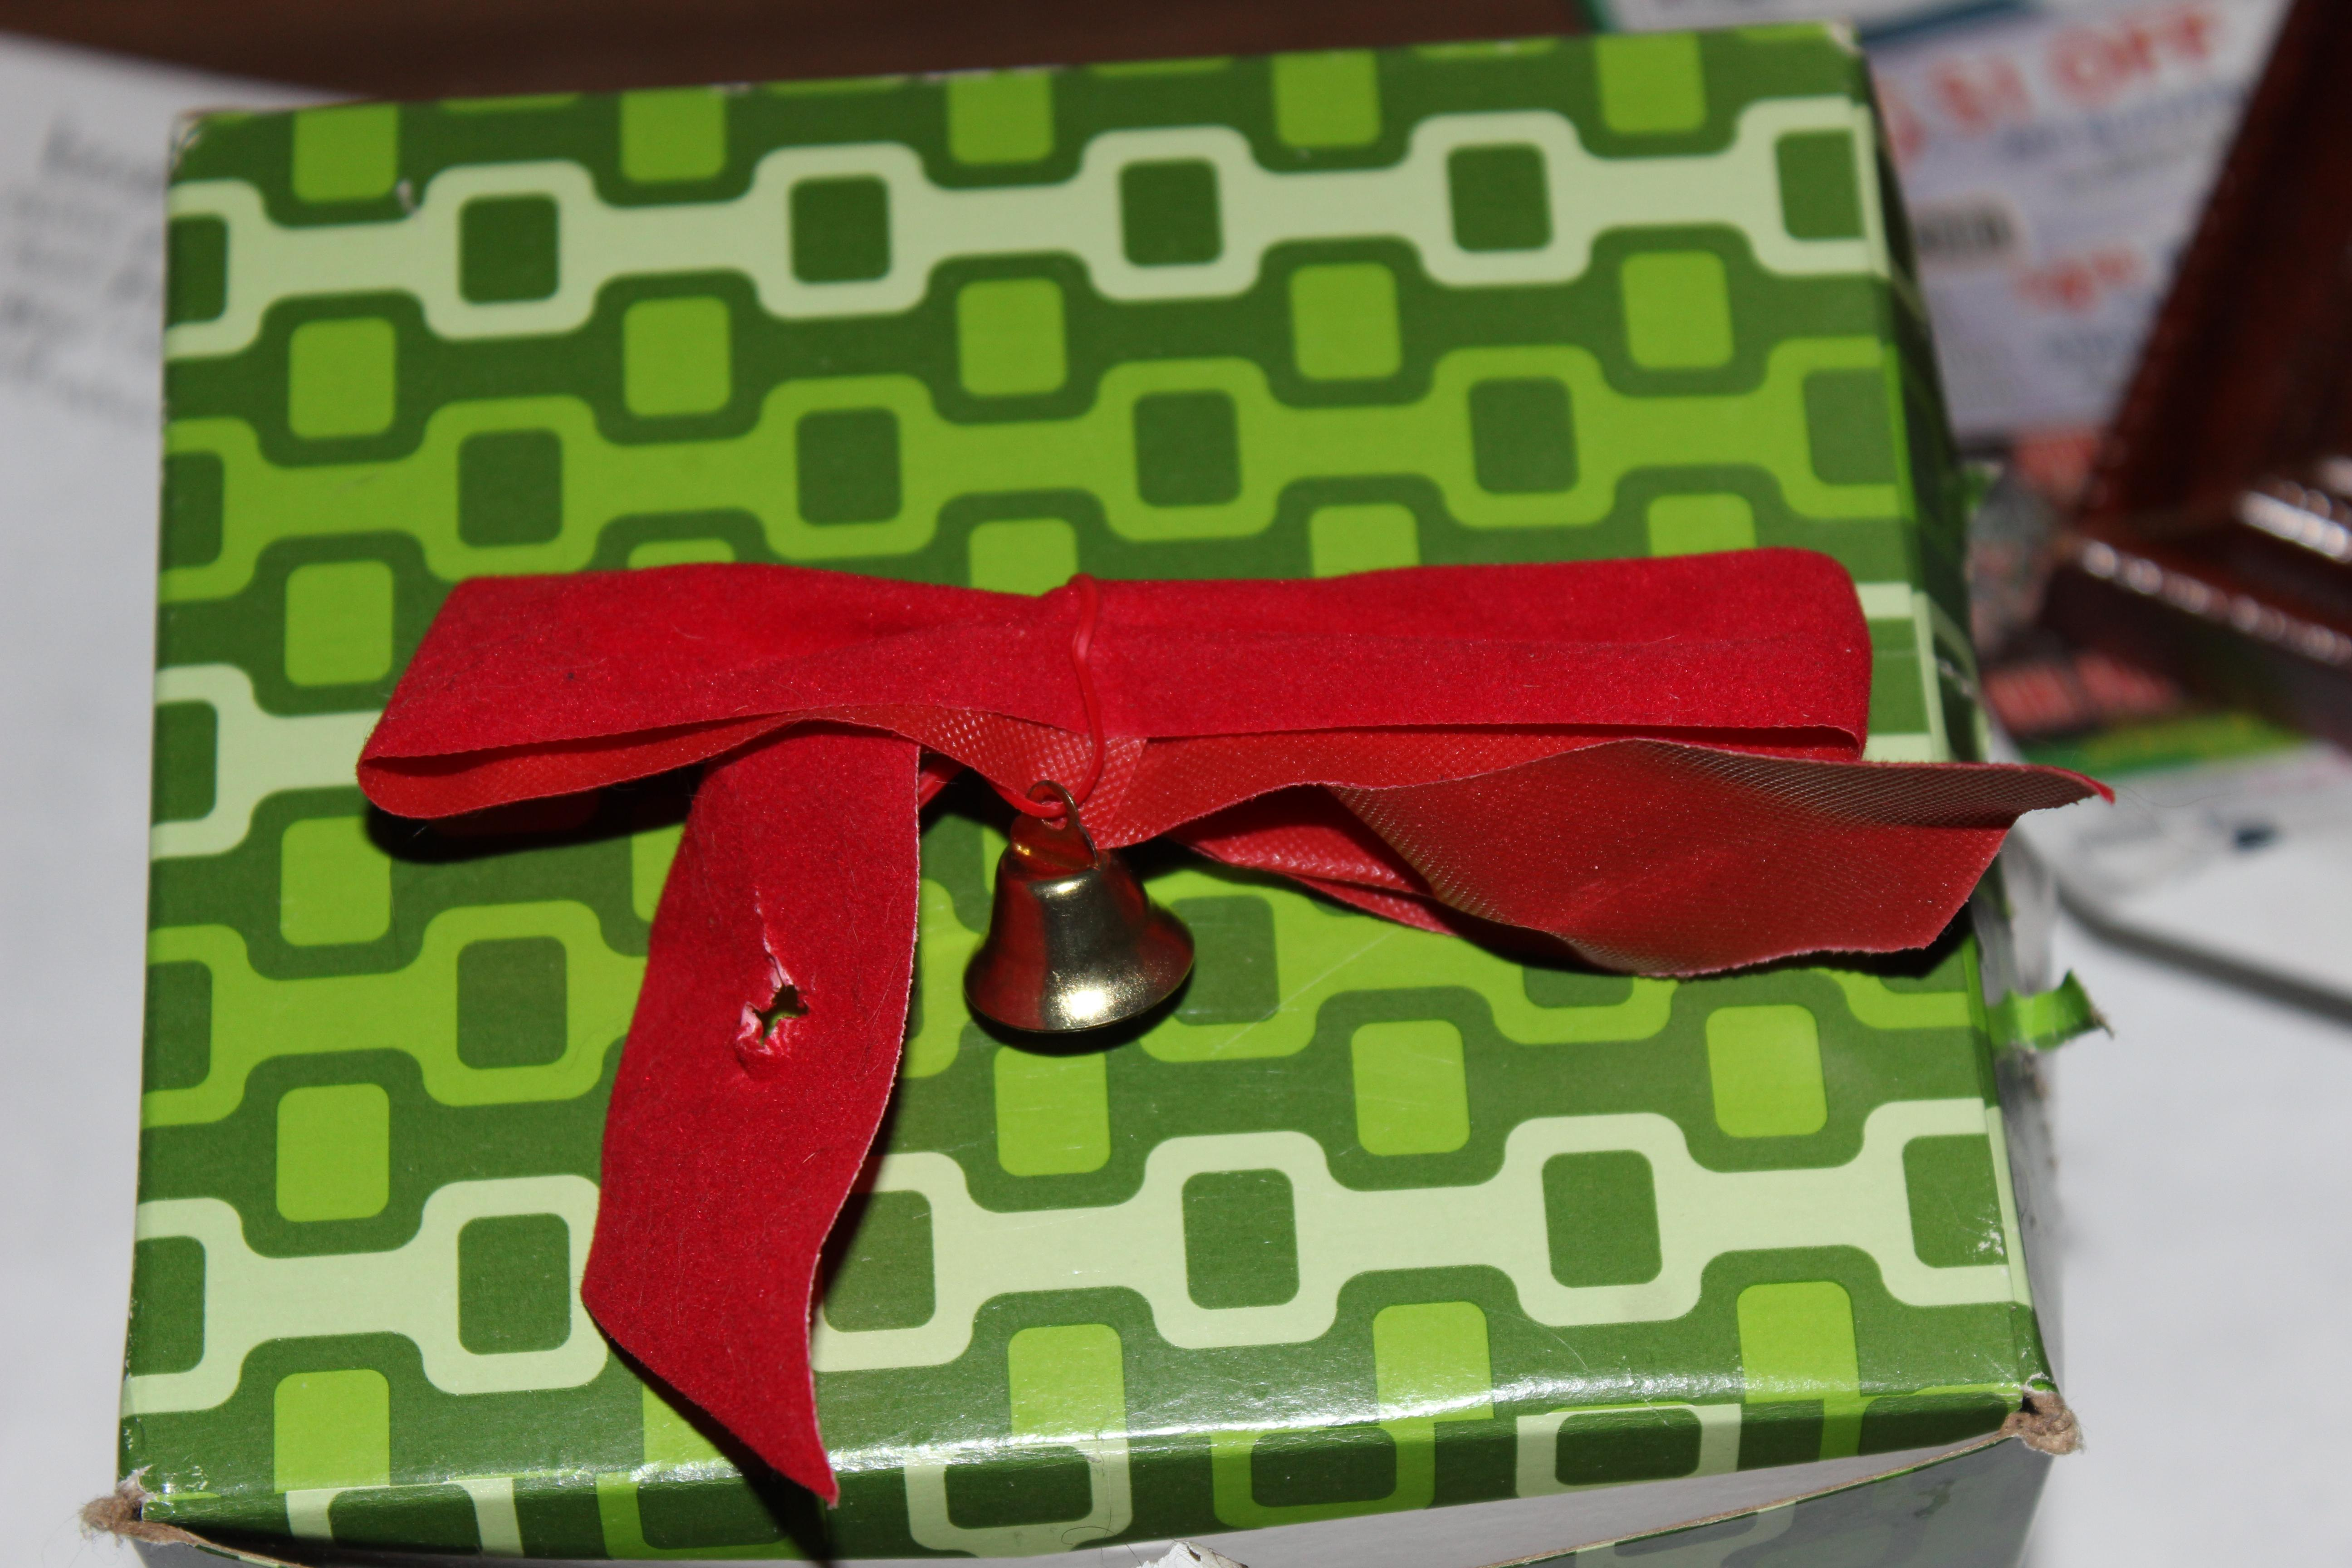redBow: (334, 511, 2140, 1545)
